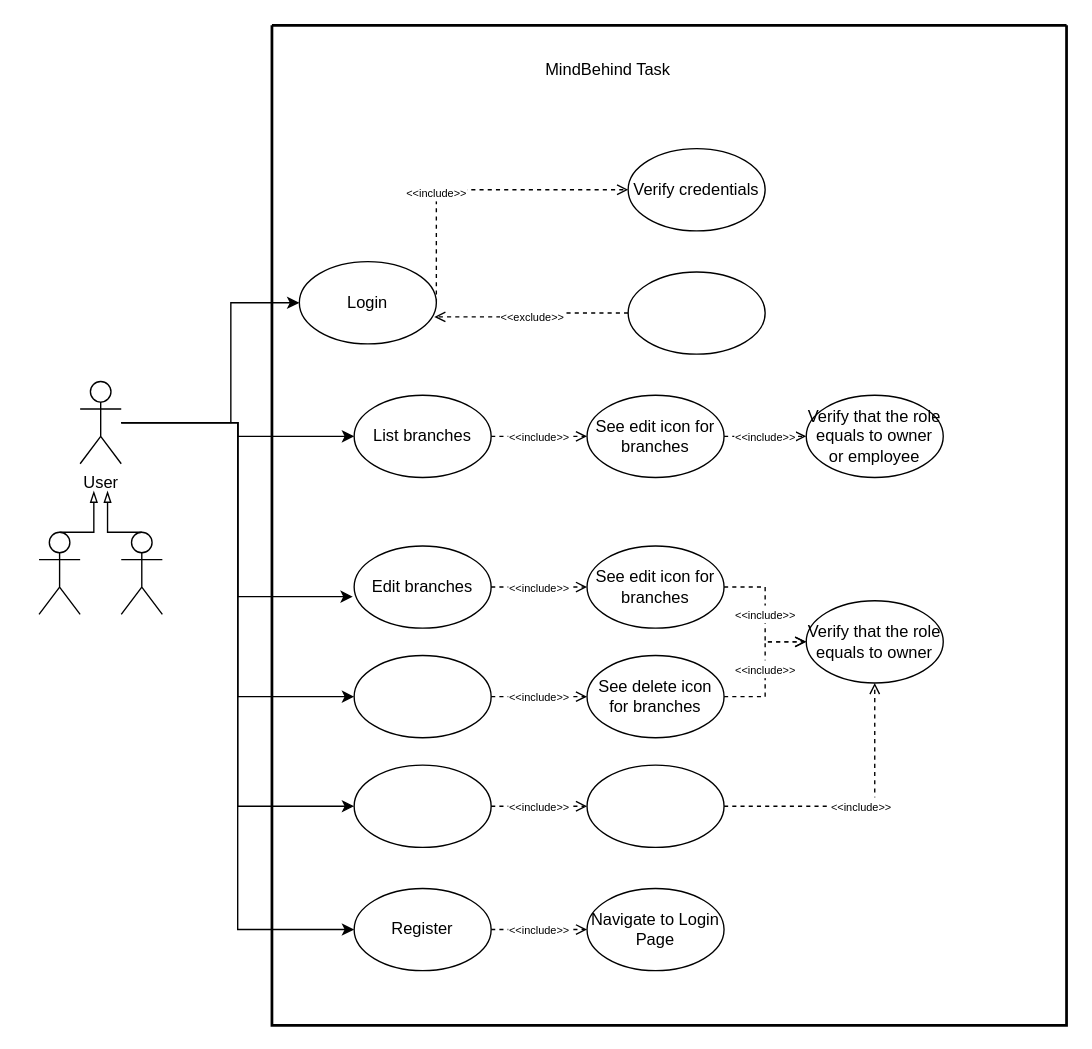
This 1092x1049 diagram has some shape labels left out. The shapes that lost their labels are listed below. From the top down, each one's centre as x and y in pixels, then its label:
point 696,312: Display login error
point 59,572: Employee
point 141,572: Owner
point 422,696: Delete branches
point 422,805: Create new branch
point 655,805: See create icon for branches
